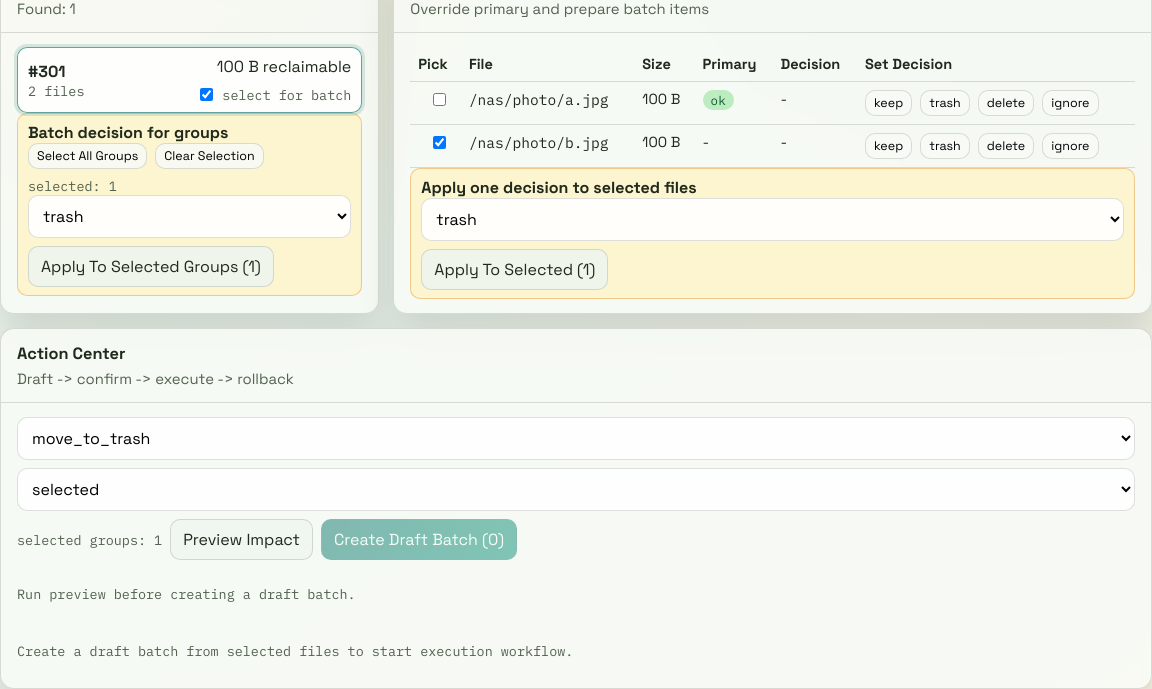
Test case: ReviewPage › supports rollback after executed move_to_trash batch
(page scrolled)
Expected: the element with test id "group-details-table" is shown, [410, 47, 1135, 168]
Click the button "Preview Impact".
click(242, 540)  # box [170, 519, 313, 560]
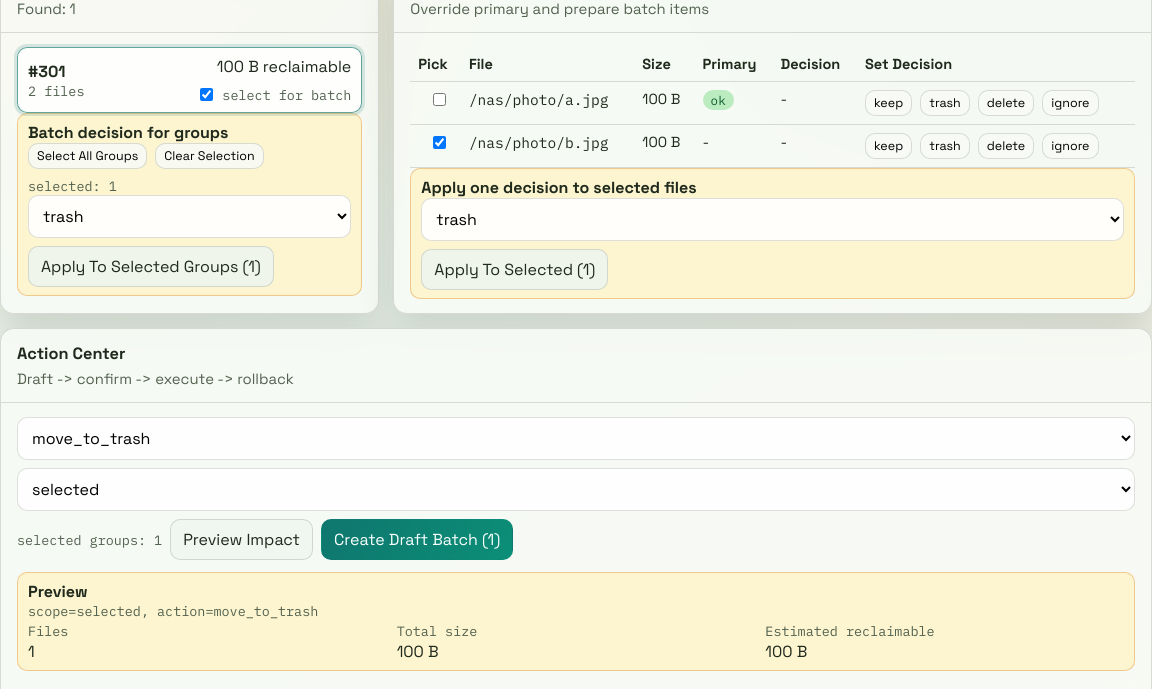
Now the element with test id "action-preview-card" is shown, box [17, 572, 1135, 671]
Click the button "Create Draft Batch (1)".
click(417, 540)  # box [321, 519, 513, 560]
(page scrolled)
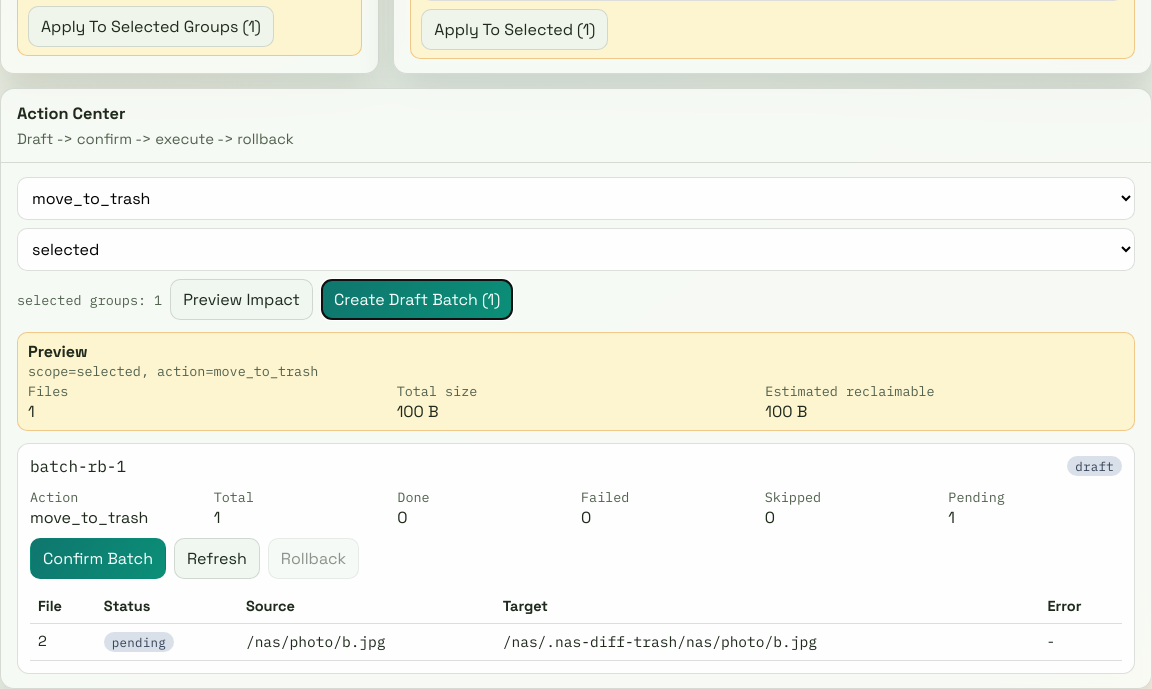
Now the element with test id "batch-card" is shown, box [17, 443, 1135, 674]
Click the button "Confirm Batch".
click(98, 558)  # box [30, 538, 166, 579]
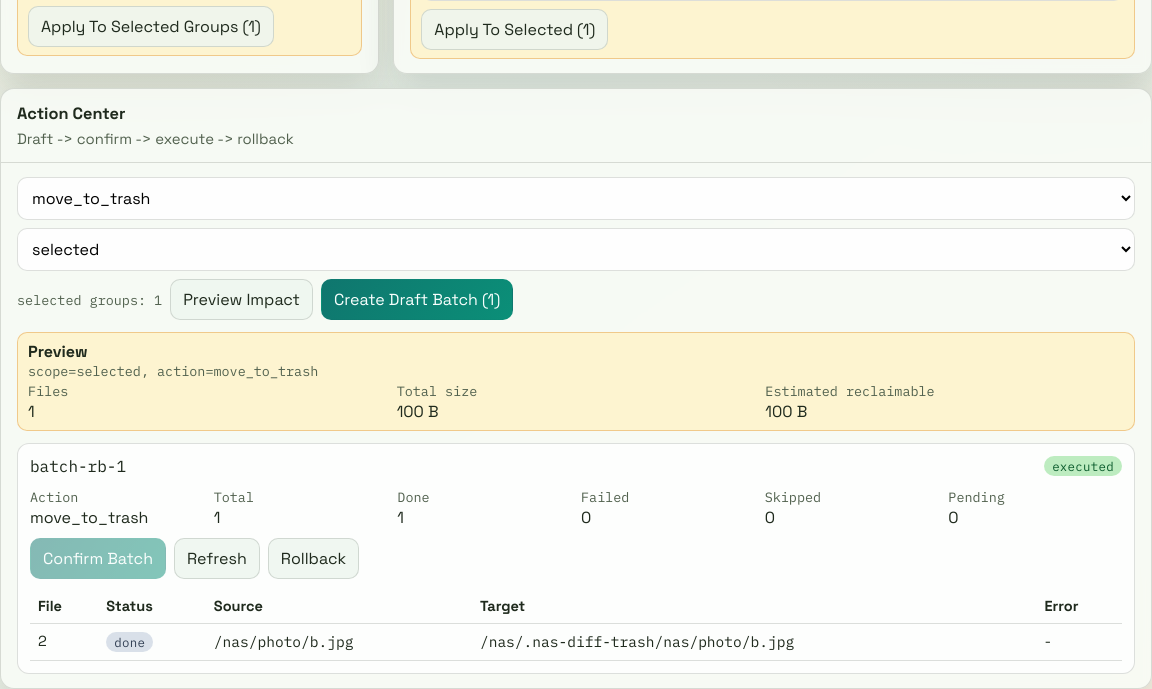
Now the element with test id "batch-card" shows "executed", box [1052, 458, 1114, 474]
Click the button "Rollback".
click(313, 558)  # box [268, 538, 359, 579]
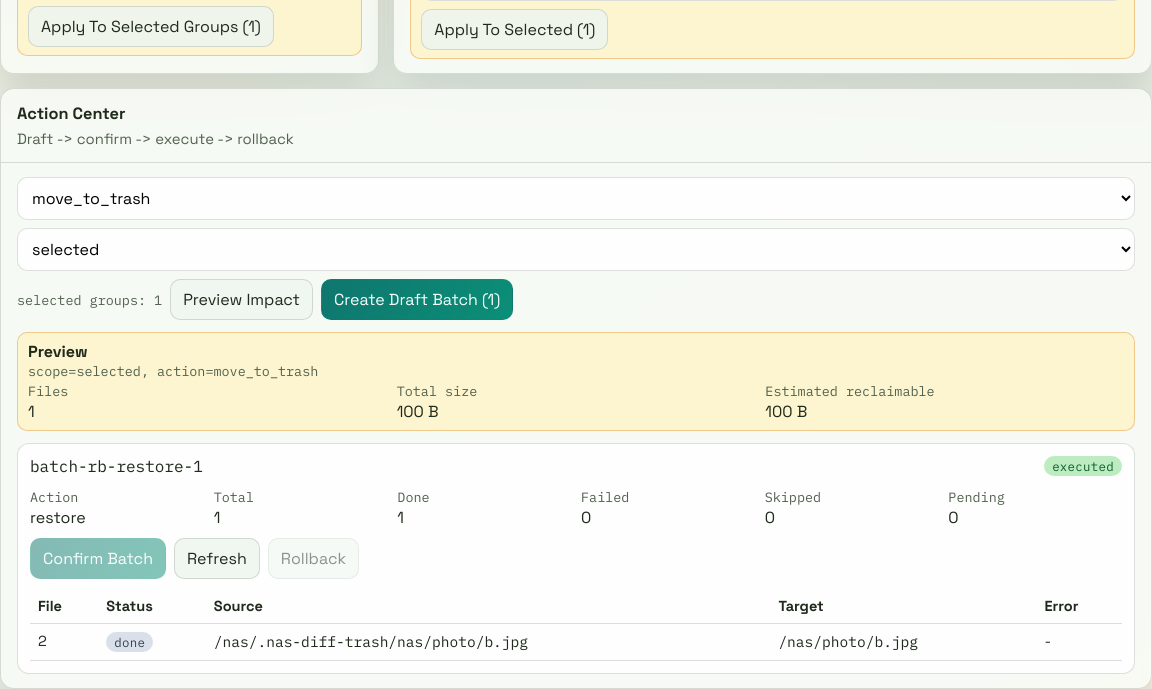
Now the element with test id "batch-card" shows "batch-rb-restore-1", box [30, 456, 203, 476]
Now the element with test id "batch-card" shows "restore", box [30, 507, 86, 528]
